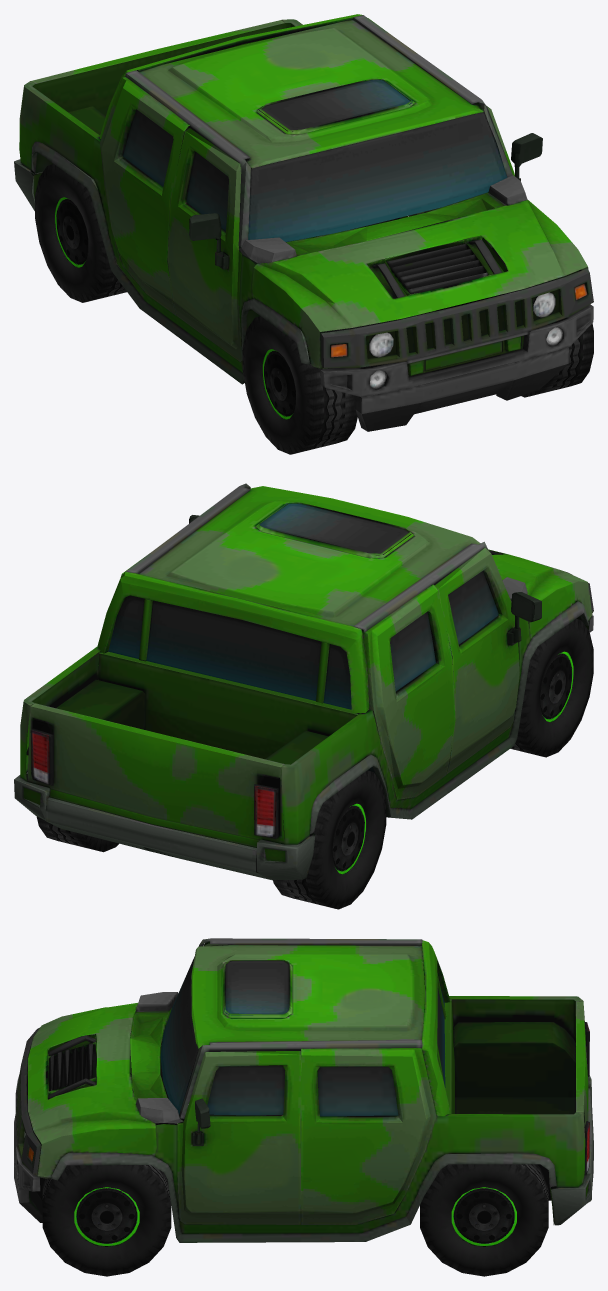
The model's file is Car 8.glb.
3 renders of one model, top to bottom at view 1: azimuth 30°, elevation 25°; view 2: azimuth 150°, elevation 25°; view 3: azimuth 270°, elevation 25°, orthographic. The views are drawn at different scales.
Parts seen in each view (by area): view 1: carBody_low_007, tireFrontR_low_011, tireBackR_low_011, tireFrontL_low_011; view 2: carBody_low_007, tireBackR_low_011, tireFrontR_low_011, tireBackL_low_011; view 3: carBody_low_007, tireFrontL_low_011, tireBackL_low_011.
Boxes of the visible parts, left/top/right/bottom form: carBody_low_007: left=14, top=14, right=593, bottom=431; tireFrontR_low_011: left=242, top=316, right=357, bottom=454; tireBackR_low_011: left=35, top=164, right=126, bottom=302; tireFrontL_low_011: left=499, top=257, right=593, bottom=397; carBody_low_007: left=14, top=483, right=593, bottom=880; tireBackR_low_011: left=273, top=770, right=386, bottom=909; tireFrontR_low_011: left=510, top=618, right=593, bottom=757; tireBackL_low_011: left=36, top=816, right=118, bottom=852; carBody_low_007: left=14, top=938, right=593, bottom=1242; tireFrontL_low_011: left=42, top=1165, right=171, bottom=1276; tireBackL_low_011: left=420, top=1164, right=548, bottom=1276.
Size of the model in its own units: 0.7688 by 0.5234 by 1.21.
Materials: 2 (2 with a texture image).
